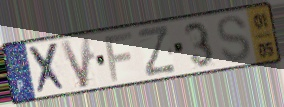3: (184, 19, 216, 69)
F: (103, 30, 135, 84)
S: (215, 14, 253, 64)
V: (58, 34, 93, 91)
X: (27, 40, 69, 97)
Z: (135, 23, 178, 79)
